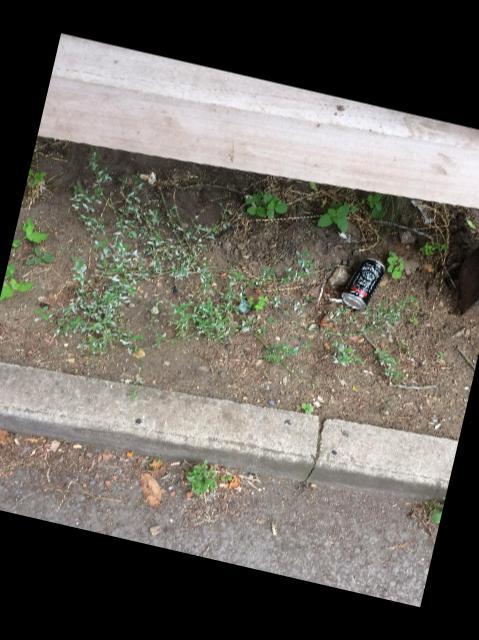metal: (340, 258, 383, 308)
